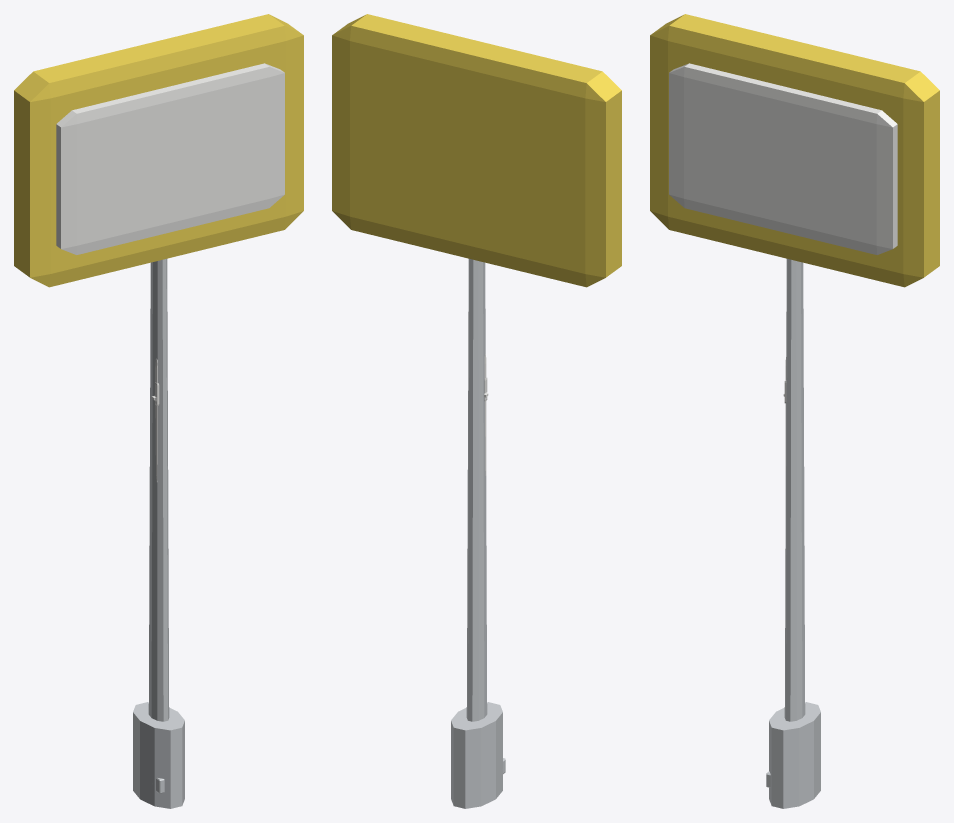
The model's file is b02_pedestrian_crossing.glb.
The picture shows the model from 3 angles, left to right: view 1: azimuth 30°, elevation 25°; view 2: azimuth 150°, elevation 25°; view 3: azimuth 330°, elevation 25°; orthographic projection.
Visible parts, largest first — view 1: b02_pedestrian_crossing; view 2: b02_pedestrian_crossing; view 3: b02_pedestrian_crossing.
Boxes of the visible parts, bbox=[...] form: b02_pedestrian_crossing: bbox=[14, 14, 303, 808]; b02_pedestrian_crossing: bbox=[332, 14, 621, 808]; b02_pedestrian_crossing: bbox=[650, 14, 939, 808].
Size of the model in its own units: 0.998 by 2.6 by 0.22.
